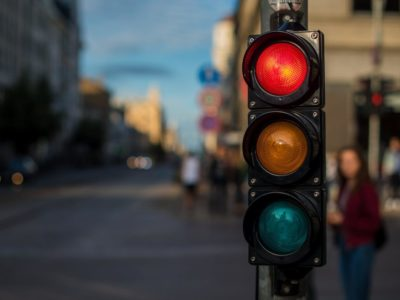trafficlight_red: (243, 32, 325, 264)
